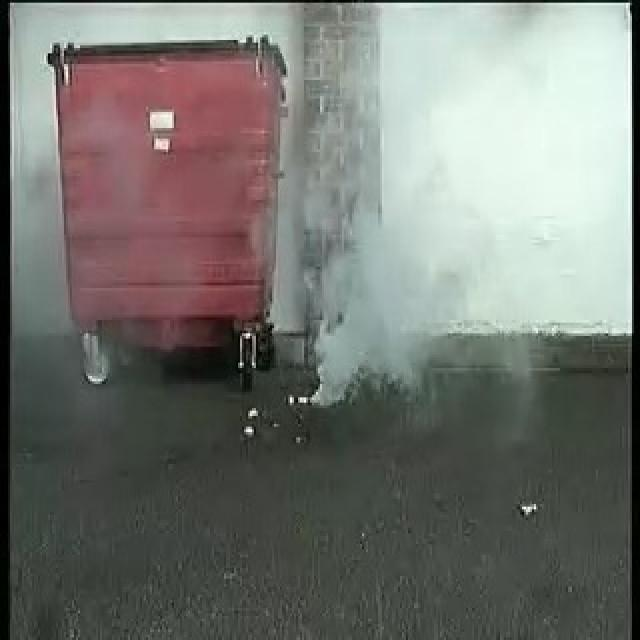Smoke: (292, 65, 434, 400)
